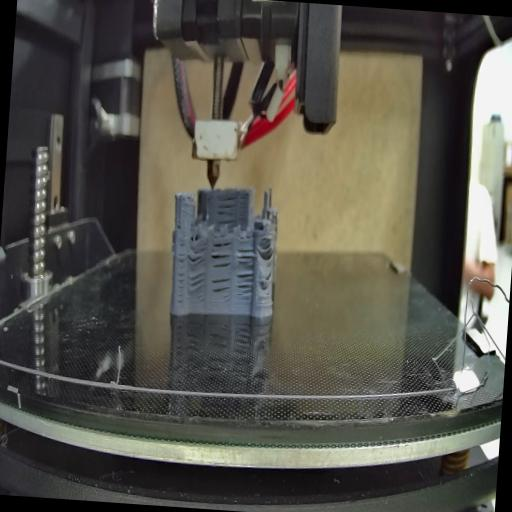cracks: (213, 195, 242, 229), (174, 246, 188, 308), (210, 240, 234, 272), (234, 270, 255, 300), (187, 273, 208, 302), (186, 244, 209, 269), (212, 276, 232, 304), (235, 243, 255, 267), (261, 242, 276, 264), (262, 268, 274, 282), (176, 220, 183, 230)
